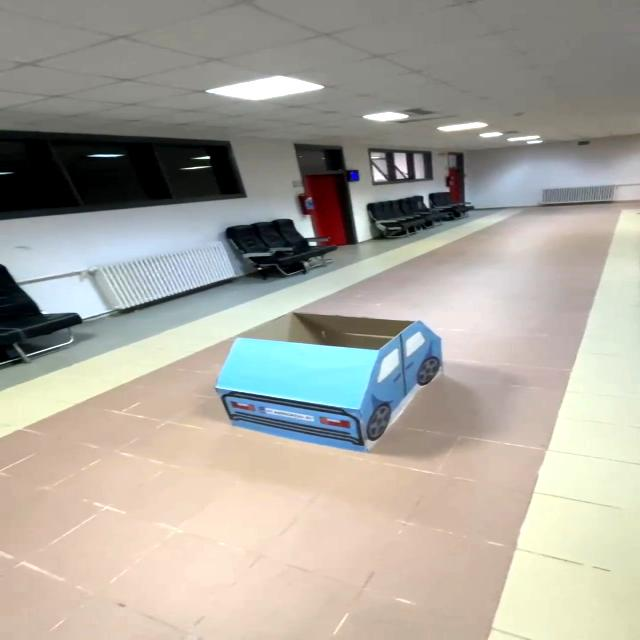blue_car: (196, 298, 464, 471)
